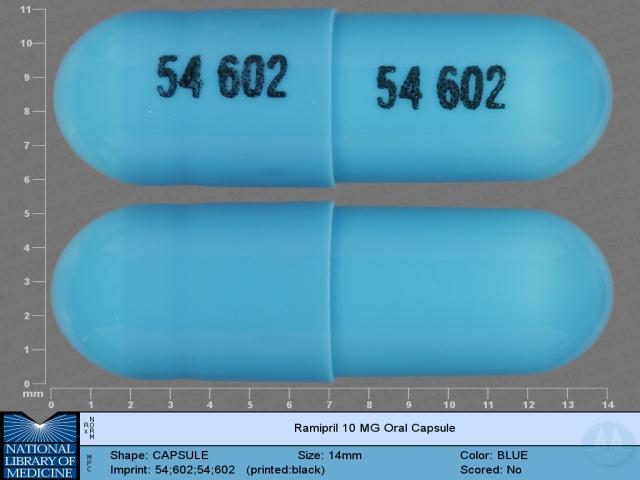capsule: (48, 197, 619, 384), (49, 5, 616, 190)
